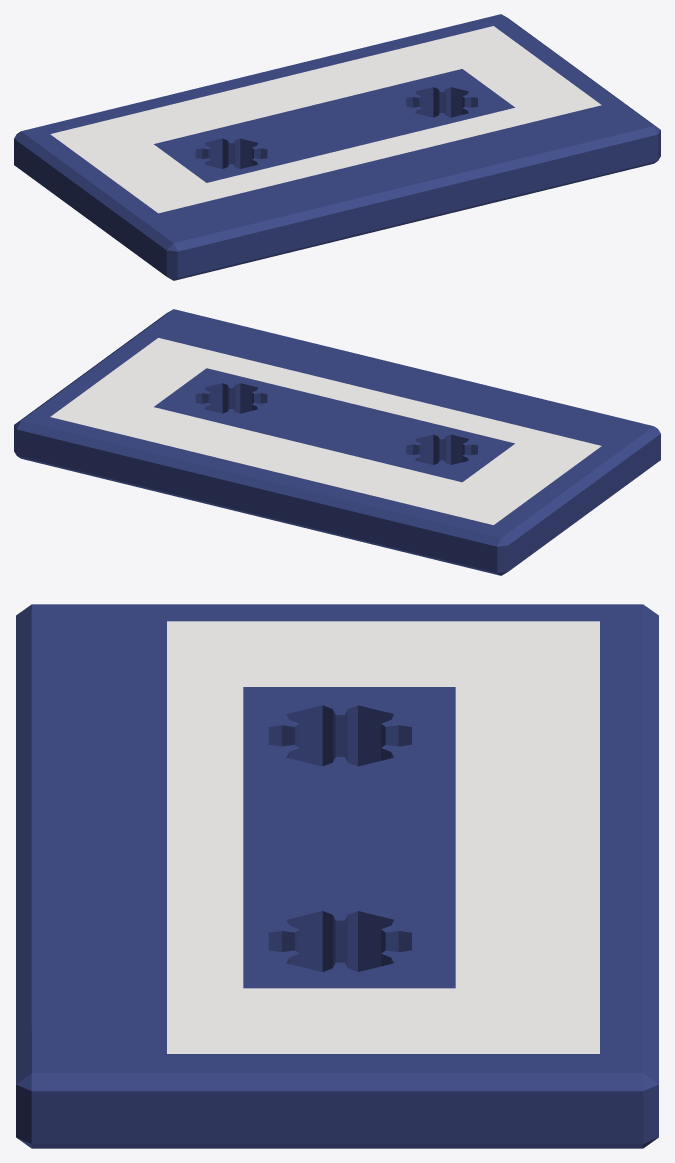
The model's file is Audio_cassette_5.fbx.
The picture shows the model from 3 angles, top to bottom: view 1: azimuth 30°, elevation 25°; view 2: azimuth 150°, elevation 25°; view 3: azimuth 270°, elevation 25°; orthographic projection. The views are drawn at different scales.
Visible parts, largest first — view 1: Audio_cassette_5; view 2: Audio_cassette_5; view 3: Audio_cassette_5.
Boxes of the visible parts, x1,y1,x2,y2 form: Audio_cassette_5: (14, 14, 660, 280); Audio_cassette_5: (14, 309, 660, 575); Audio_cassette_5: (16, 604, 658, 1148).
Bounding box in the file's own units: 9.69 × 5.46 × 0.7269.
